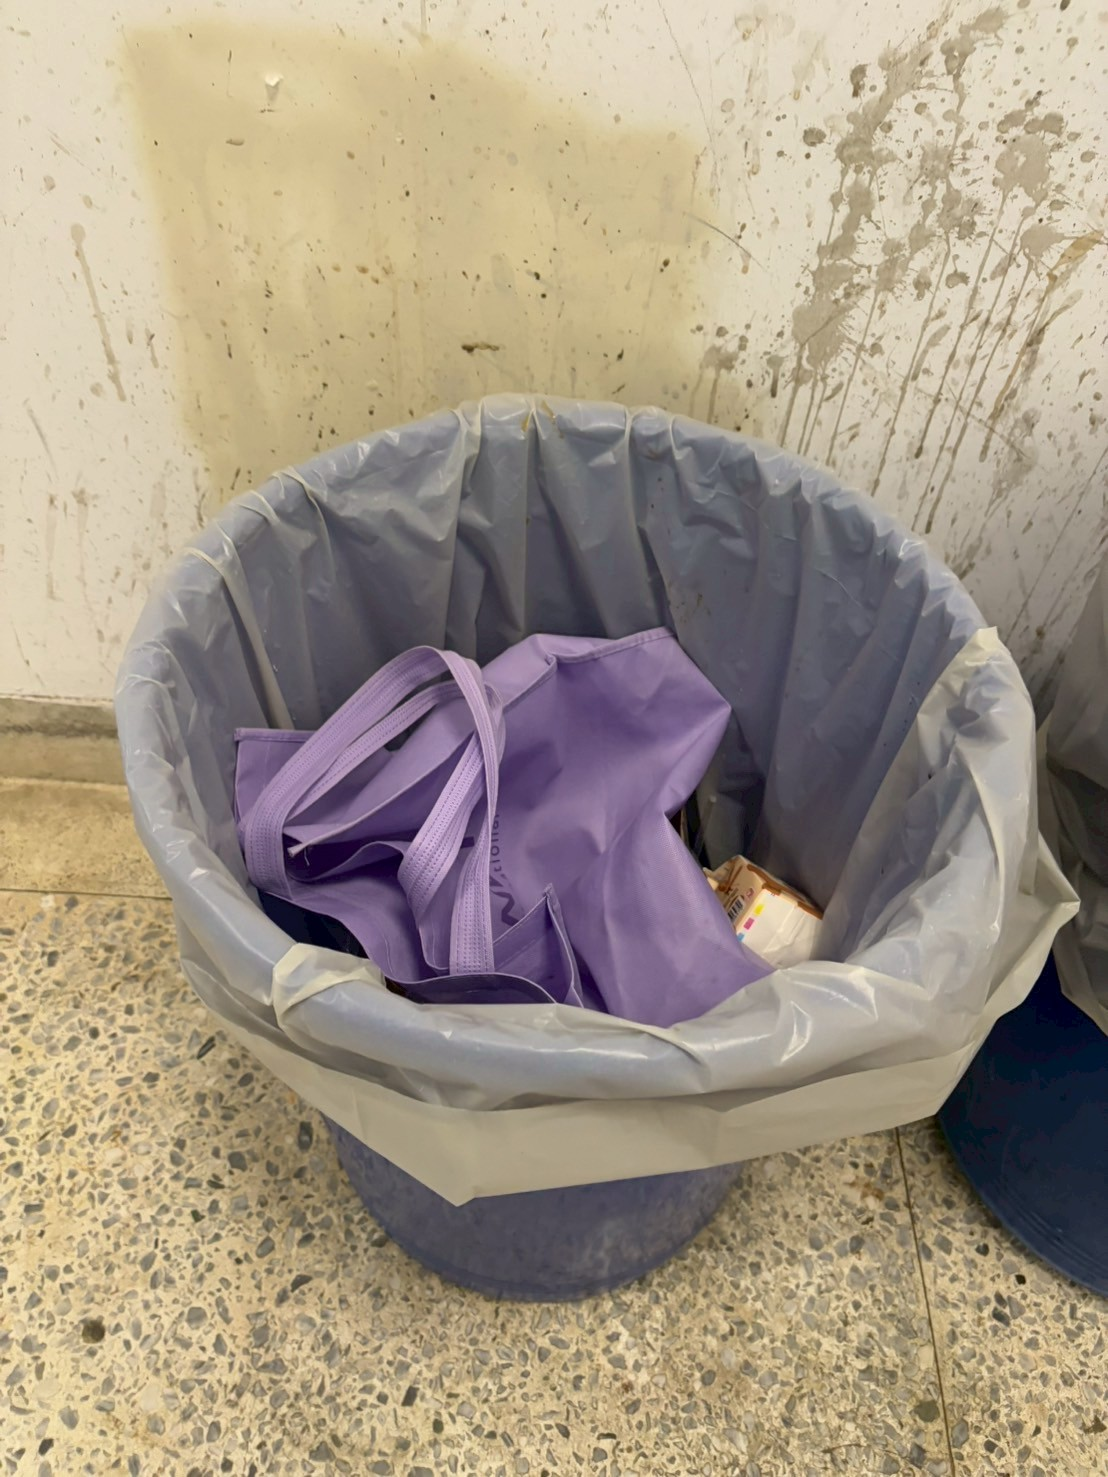overflow_bin: (98, 372, 1068, 1327)
